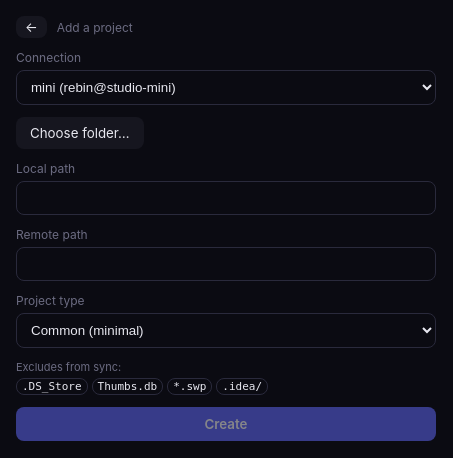
Test: AddProject › auto-fills the remote path namespaced by the computer name
Click the button with test id "pick-folder".
click(80, 133)  # box [16,117,144,149]
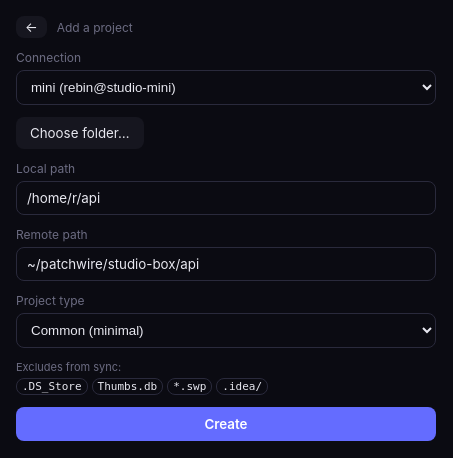
expect the field with test id "remote-path" holds "~/patchwire/studio-box/api": met, box [16,247,436,281]
